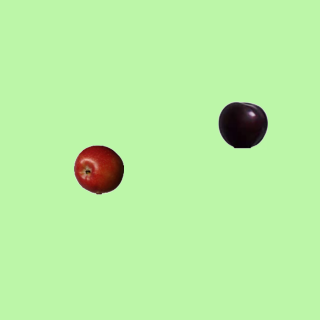Apple Braeburn: (73, 144, 123, 194)
Cherry Wax Black: (217, 99, 267, 149)
